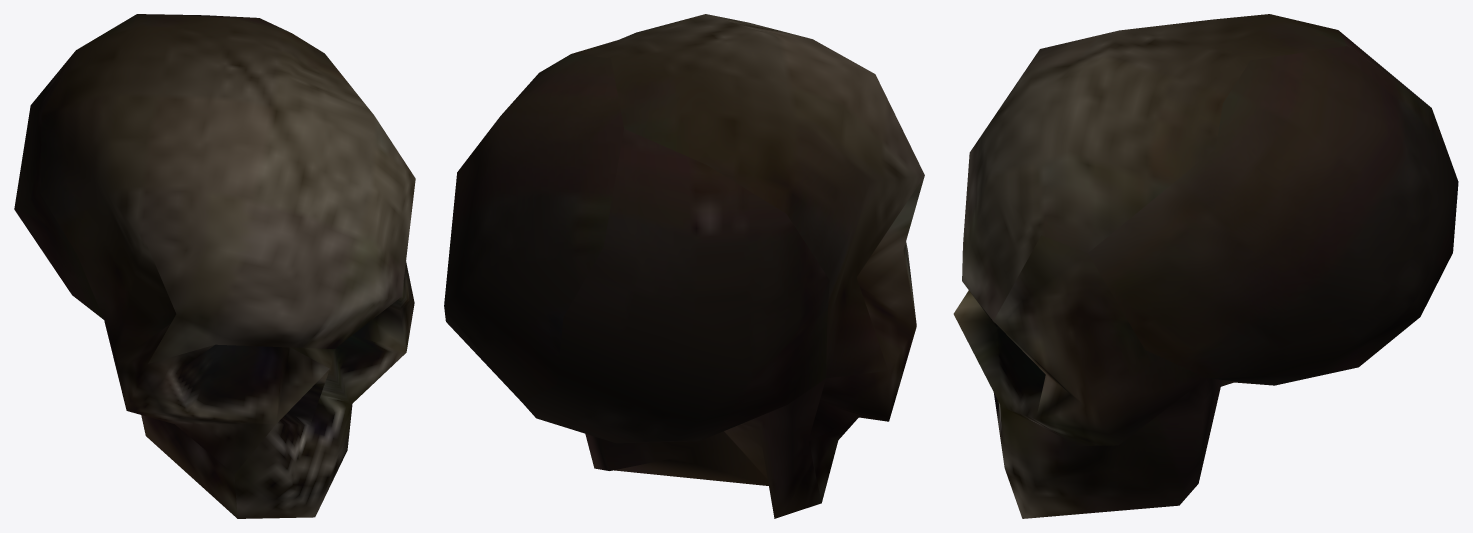
The model's file is Skull.fbx.
3 renders of one model, left to right at view 1: azimuth 30°, elevation 25°; view 2: azimuth 150°, elevation 25°; view 3: azimuth 270°, elevation 25°, orthographic. The views are drawn at different scales.
Parts seen in each view (by area): view 1: Skull; view 2: Skull; view 3: Skull.
Boxes of the visible parts, left/top/right/bottom form: Skull: left=14, top=14, right=415, bottom=518; Skull: left=444, top=14, right=924, bottom=518; Skull: left=953, top=14, right=1458, bottom=518.
Bounding box in the file's own units: 22.92 × 30.57 × 29.65.
